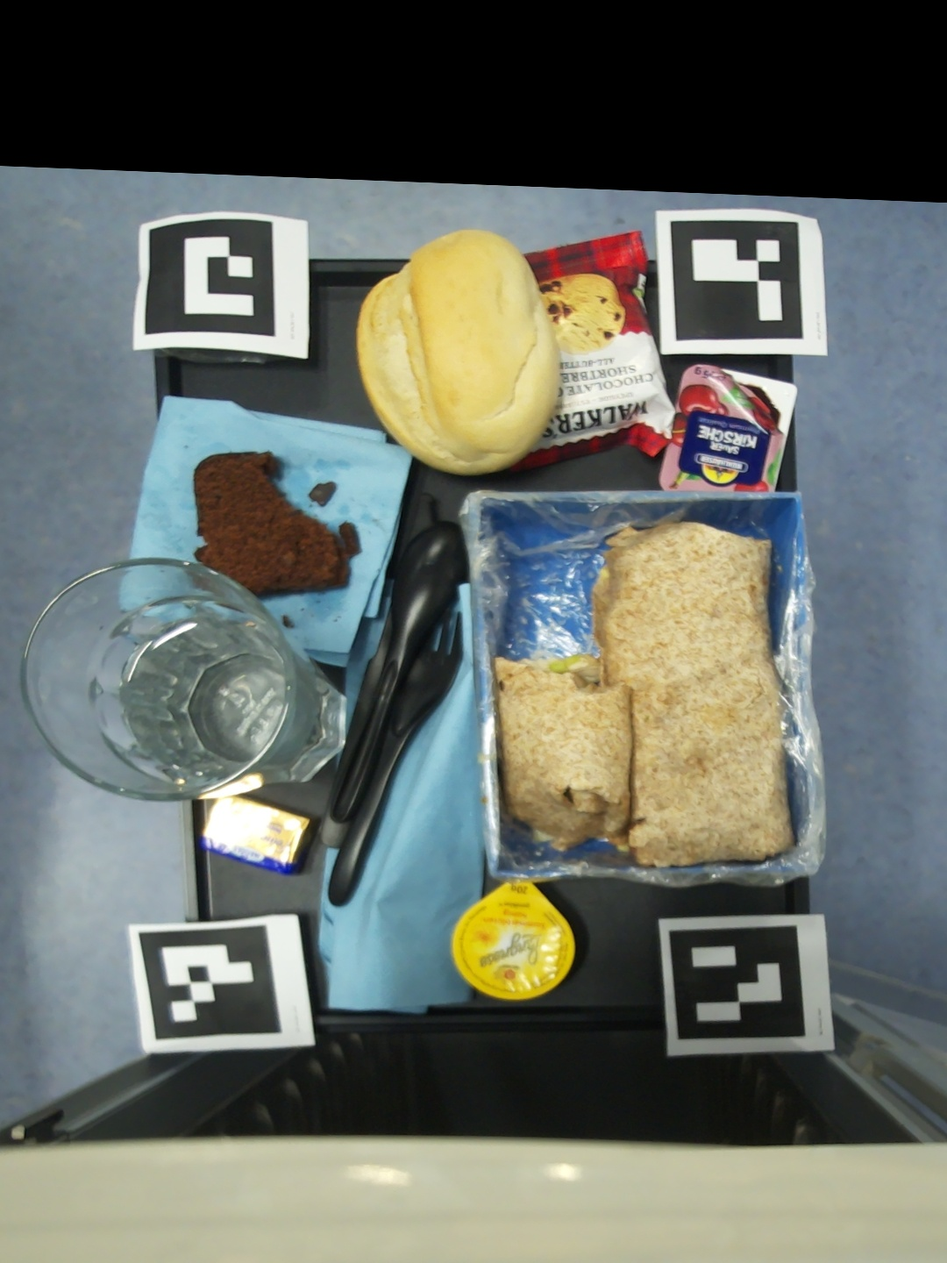bread_roll: (358, 230, 561, 474)
brownie: (194, 450, 362, 598), (310, 482, 337, 506), (283, 615, 295, 627)
butter: (199, 795, 320, 875)
cherry_jam: (660, 365, 798, 491)
cookie: (510, 232, 675, 472)
honey: (452, 881, 574, 1001)
water_bottle: (22, 557, 345, 802)
wrap_half_1: (494, 654, 631, 854)
wrap_half_2: (593, 522, 795, 868)
